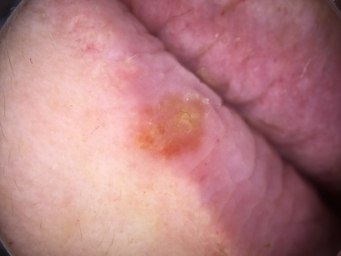melanoma: (141, 108, 195, 150)
